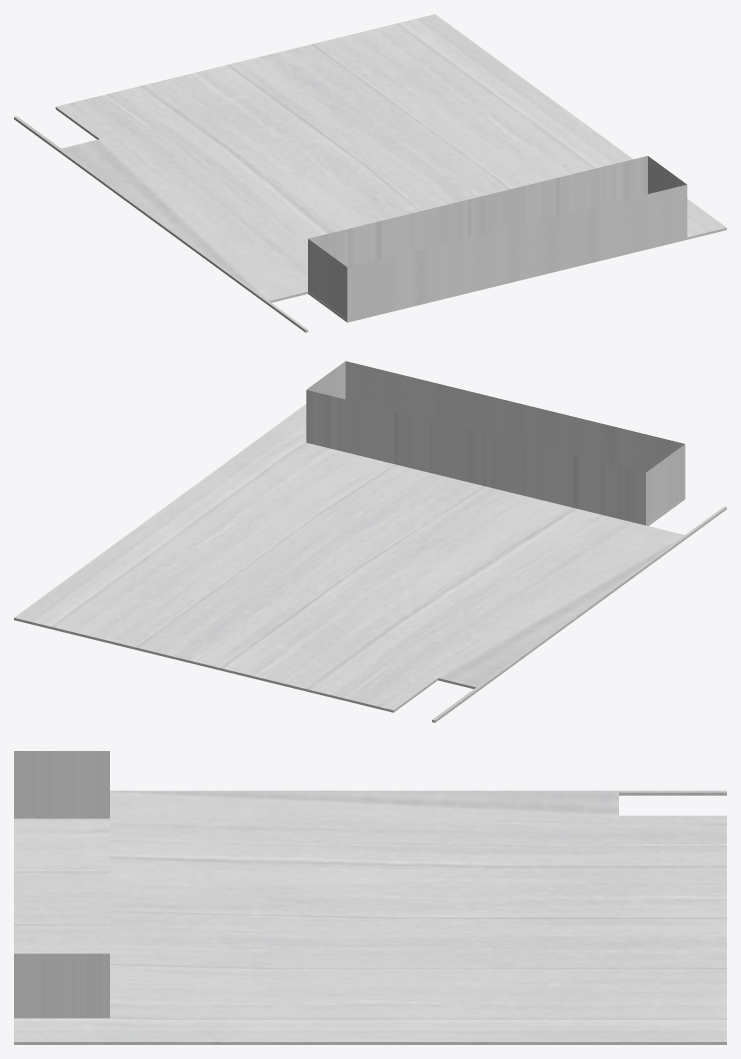
The model's file is 2F floor.FBX.
3 renders of one model, top to bottom at view 1: azimuth 30°, elevation 25°; view 2: azimuth 150°, elevation 25°; view 3: azimuth 270°, elevation 25°, orthographic. The views are drawn at different scales.
Parts seen in each view (by area): view 1: bigfloor002; view 2: bigfloor002; view 3: bigfloor002.
Part boxes in pixels (x1,y1,x2,y2): bigfloor002: (14, 14, 726, 332); bigfloor002: (14, 361, 726, 722); bigfloor002: (14, 751, 726, 1044).
Size of the model in its own units: 50 by 6.26 by 60.
1 material, 1 textured.
